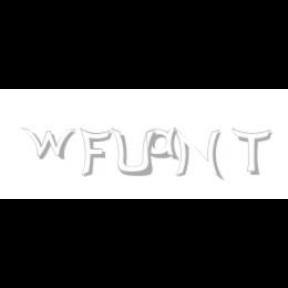F: (79, 128, 111, 178)
N: (172, 128, 222, 180)
T: (231, 128, 271, 176)
U: (110, 128, 156, 178)
a: (146, 128, 183, 160)
w: (22, 128, 80, 160)
